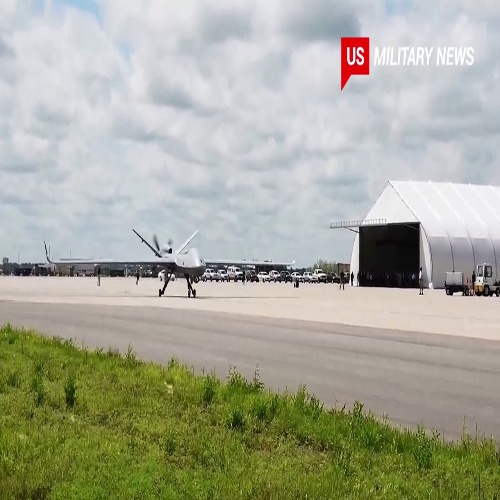uav: (41, 226, 296, 302)
